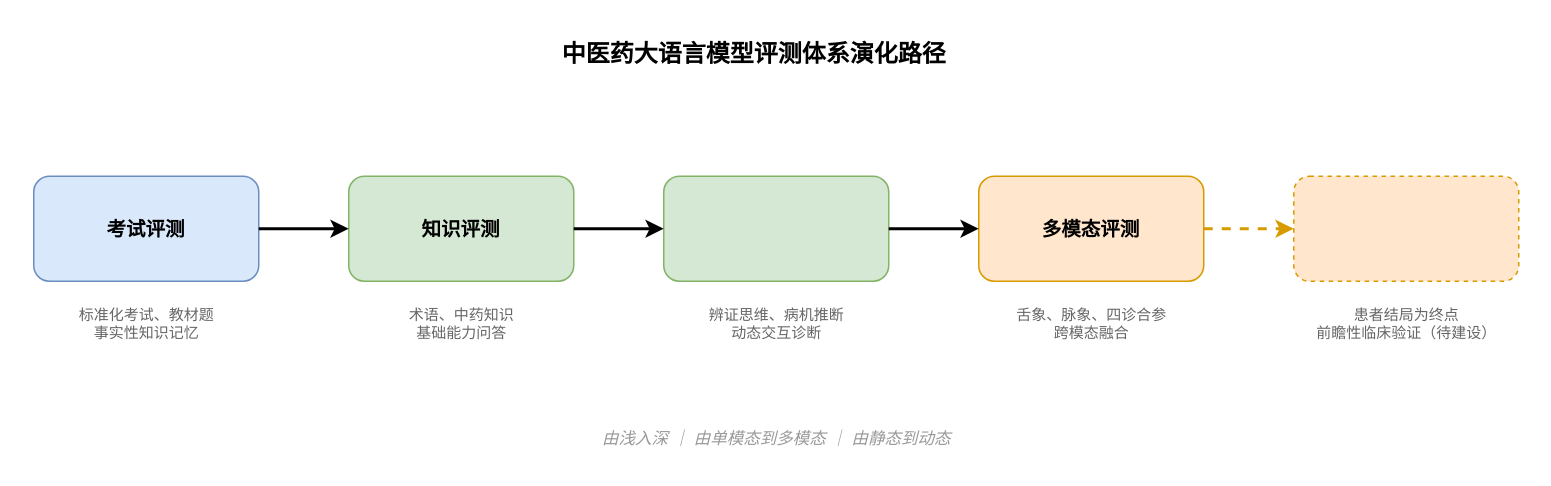
Image size: 1551x486. Some labels were removed from this diagram. The centre of each missing label's shape, as x and y in pixels:
"推理评测" belongs at (x=775, y=228).
"真实世界评测" belongs at (x=1405, y=228).
